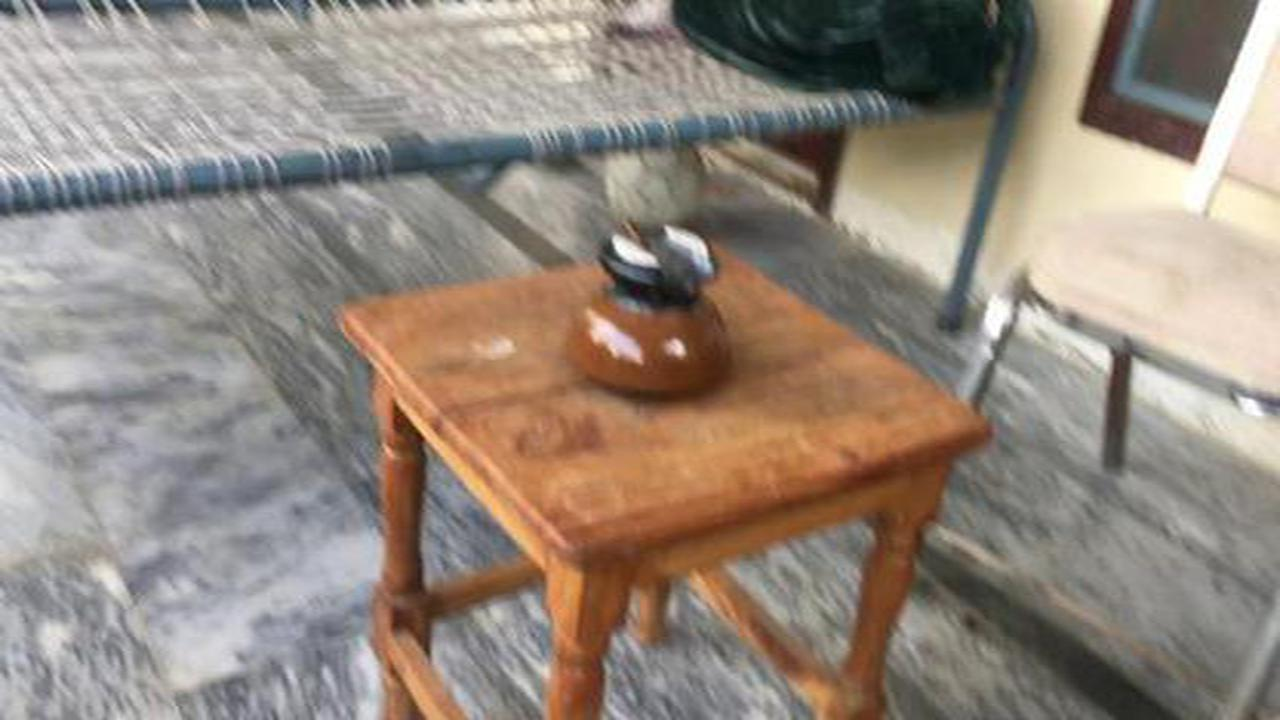insulator_pin: (539, 210, 764, 411)
